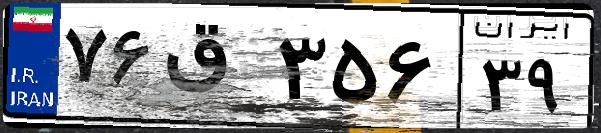3: (270, 28, 330, 110), (475, 38, 525, 113)
5: (330, 28, 385, 110)
6: (385, 28, 445, 110), (110, 28, 158, 98)
7: (57, 26, 110, 100)
9: (525, 38, 570, 115)
ق: (158, 20, 270, 120)
